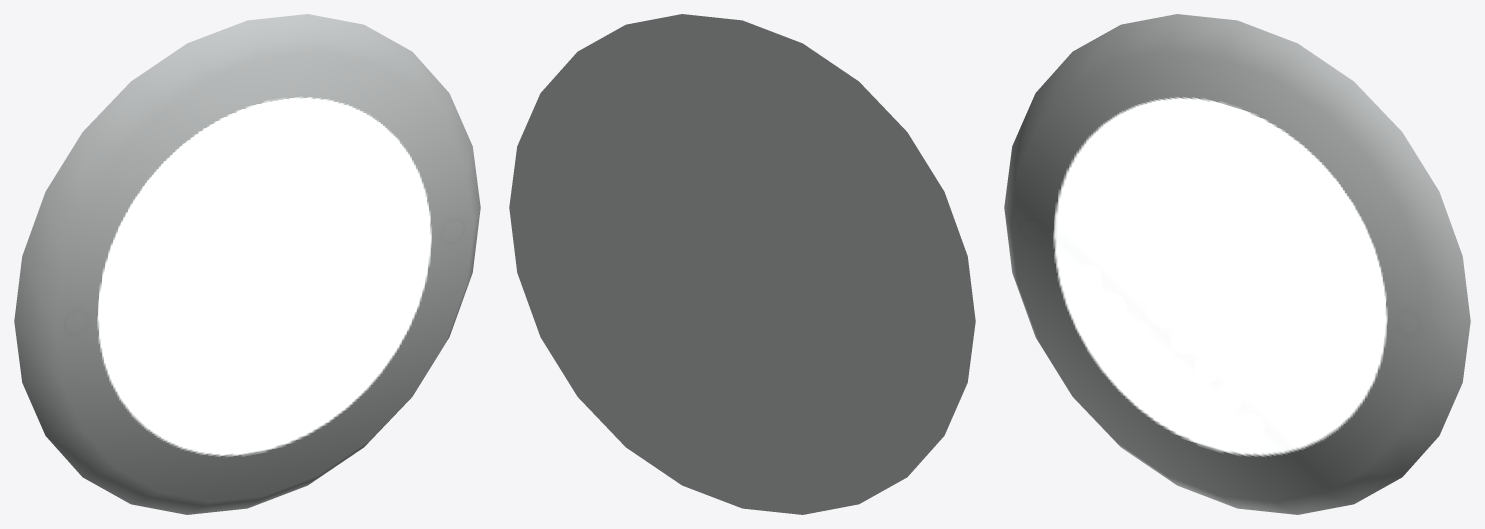
File: PoolLight01_4.FBX
3 views of the same model, side by side, from view 1: azimuth 30°, elevation 25°; view 2: azimuth 150°, elevation 25°; view 3: azimuth 330°, elevation 25° (orthographic).
Parts seen in each view (by area): view 1: PoolLight01_4; view 2: PoolLight01_4; view 3: PoolLight01_4.
Boxes of the visible parts, <box> form: PoolLight01_4: <box>14,14,480,514</box>; PoolLight01_4: <box>509,14,975,514</box>; PoolLight01_4: <box>1004,14,1470,514</box>.
Size of what is drawn, in the model's own units: 0.2 by 0.2 by 0.0127.
